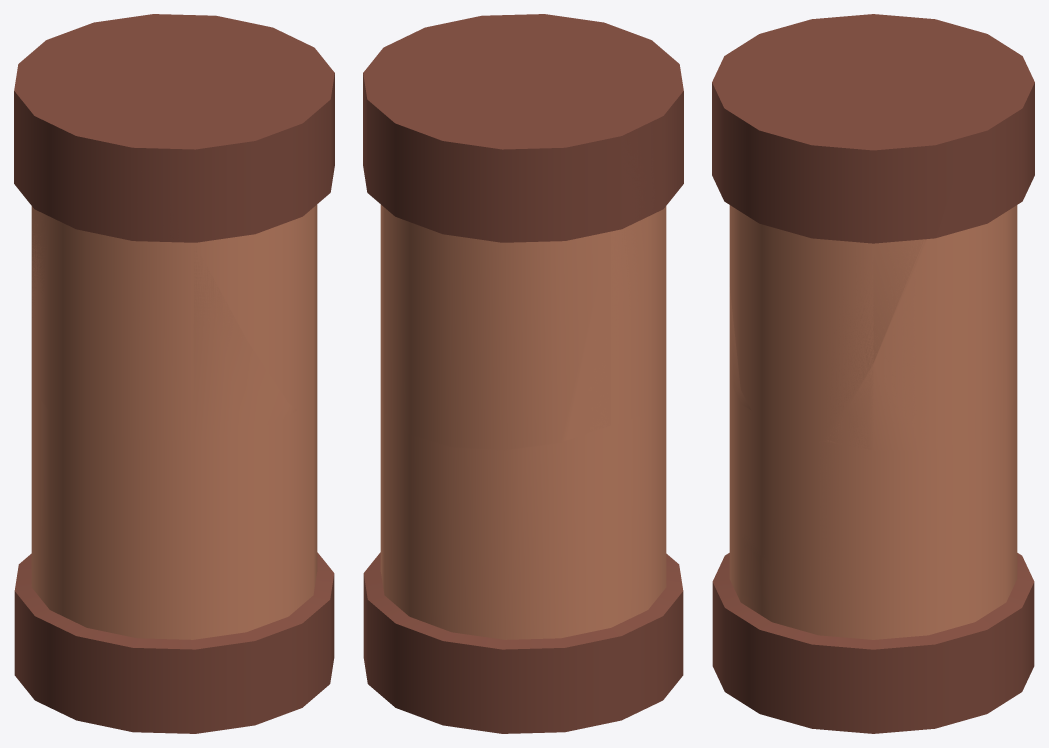
File: ColumnFractured4.fbx
3 views of the same model, side by side, from view 1: azimuth 30°, elevation 25°; view 2: azimuth 150°, elevation 25°; view 3: azimuth 270°, elevation 25° (orthographic).
Parts seen in each view (by area): view 1: Цилиндр_Цилиндр.001, Цилиндр_Цилиндр.001_cell.003, Цилиндр_Цилиндр.001_cell.002, Цилиндр_Цилиндр.001_cell.004, Цилиндр_Цилиндр.001_cell.001, Цилиндр_Цилиндр.001_cell; view 2: Цилиндр_Цилиндр.001_cell, Цилиндр_Цилиндр.001, Цилиндр_Цилиндр.001_cell.001, Цилиндр_Цилиндр.001_cell.002, Цилиндр_Цилиндр.001_cell.004, Цилиндр_Цилиндр.001_cell.003; view 3: Цилиндр_Цилиндр.001, Цилиндр_Цилиндр.001_cell, Цилиндр_Цилиндр.001_cell.001, Цилиндр_Цилиндр.001_cell.003, Цилиндр_Цилиндр.001_cell.004, Цилиндр_Цилиндр.001_cell.002.
Part boxes in pixels (x1,y1,x2,y2): Цилиндр_Цилиндр.001: [14, 14, 334, 699]; Цилиндр_Цилиндр.001_cell.003: [25, 401, 334, 733]; Цилиндр_Цилиндр.001_cell.002: [14, 91, 296, 440]; Цилиндр_Цилиндр.001_cell.004: [145, 54, 334, 149]; Цилиндр_Цилиндр.001_cell.001: [21, 386, 323, 627]; Цилиндр_Цилиндр.001_cell: [40, 52, 195, 88]; Цилиндр_Цилиндр.001_cell: [363, 86, 621, 449]; Цилиндр_Цилиндр.001: [363, 42, 683, 733]; Цилиндр_Цилиндр.001_cell.001: [363, 387, 641, 693]; Цилиндр_Цилиндр.001_cell.002: [577, 59, 683, 409]; Цилиндр_Цилиндр.001_cell.004: [363, 14, 673, 165]; Цилиндр_Цилиндр.001_cell.003: [629, 411, 683, 699]; Цилиндр_Цилиндр.001: [712, 14, 1034, 731]; Цилиндр_Цилиндр.001_cell: [833, 34, 1034, 450]; Цилиндр_Цилиндр.001_cell.001: [843, 395, 1034, 733]; Цилиндр_Цилиндр.001_cell.003: [712, 440, 845, 731]; Цилиндр_Цилиндр.001_cell.004: [712, 38, 968, 437]; Цилиндр_Цилиндр.001_cell.002: [729, 18, 833, 410].
Size of the model in its own units: 101 by 202 by 101.
